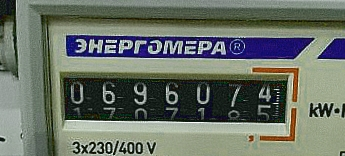0: (66, 79, 86, 104), (193, 79, 211, 105)
4: (255, 79, 272, 102)
5: (255, 102, 271, 123)
6: (161, 78, 180, 105), (98, 78, 117, 104)
7: (225, 80, 242, 107)
9: (130, 78, 147, 105)
screen: (47, 58, 302, 144)
